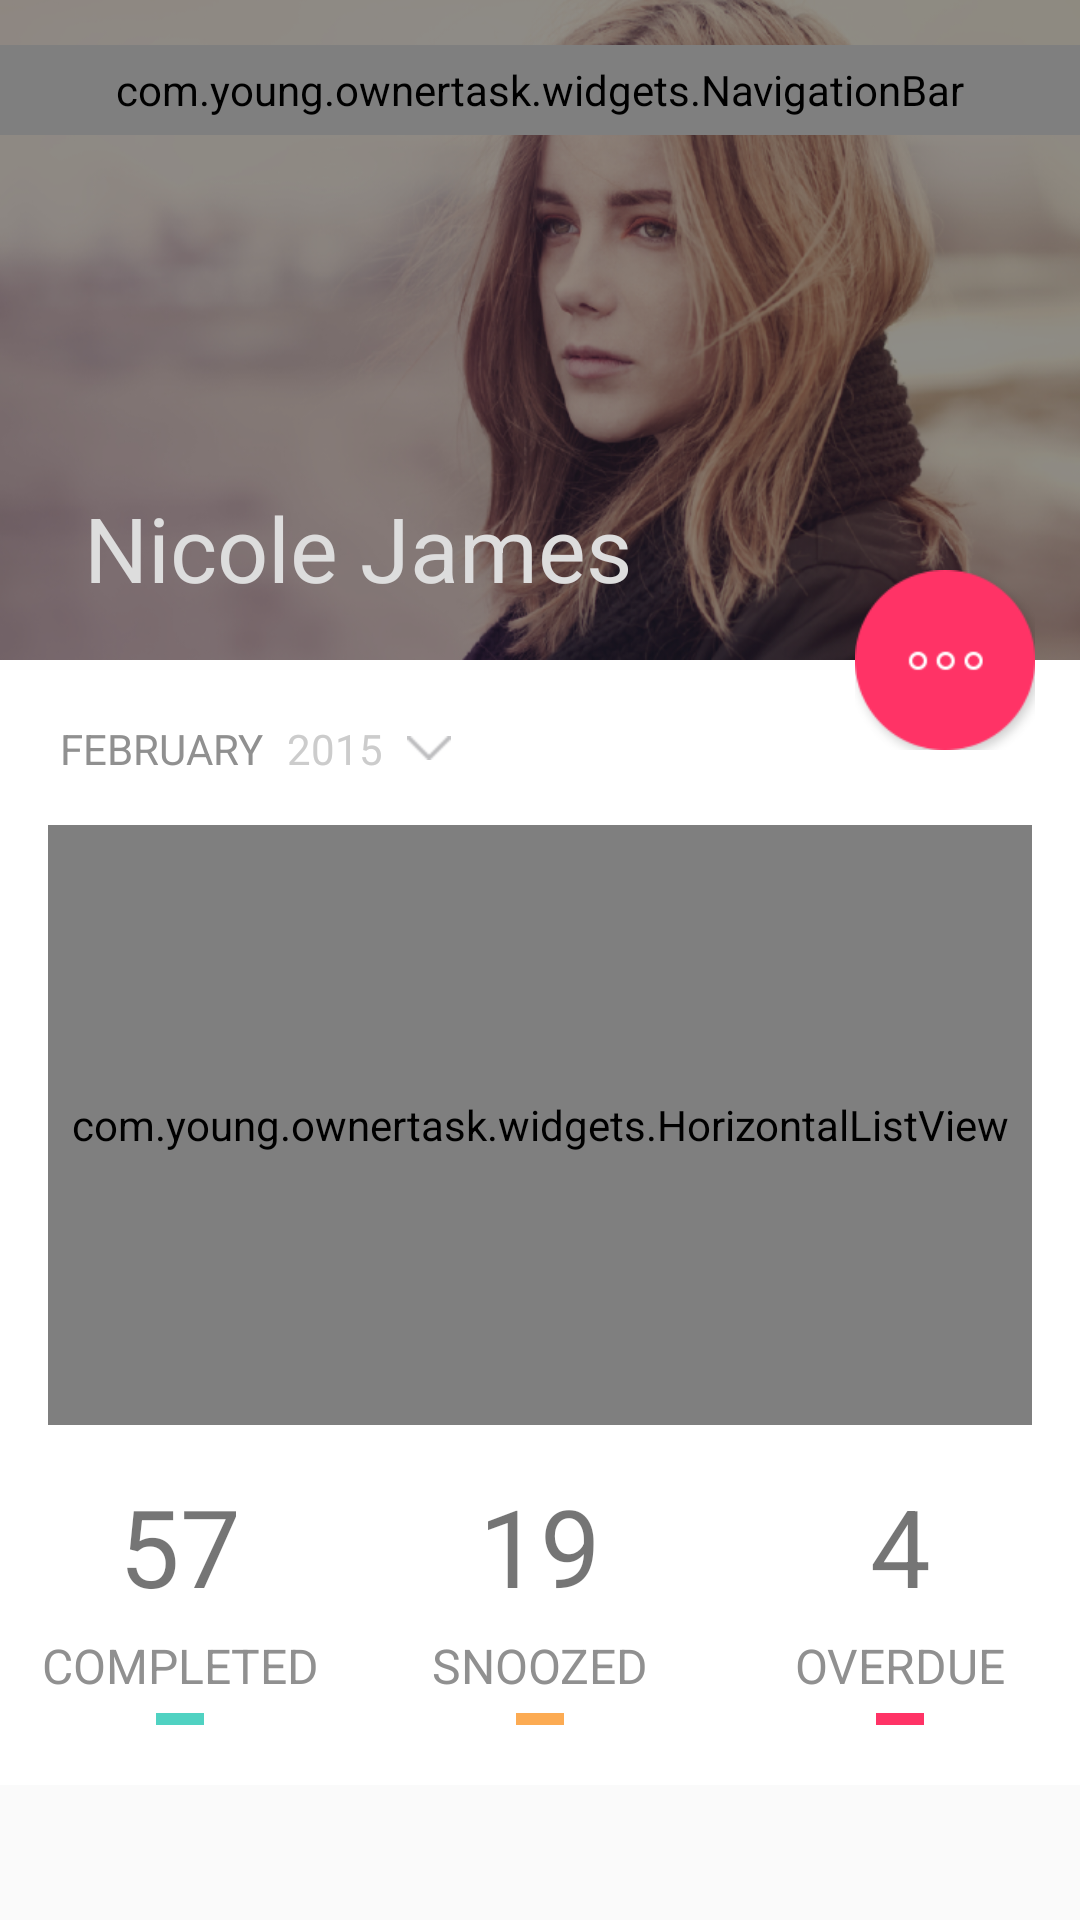

Icon click points for this 1080px×1920px phone screenshot, format [x,y]:
more: [945,660]
spinner: [429,748]
